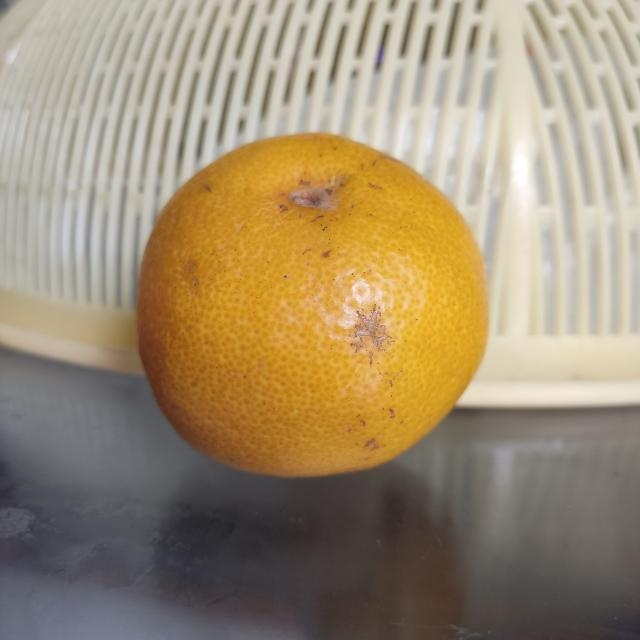agrume: (130, 130, 493, 486)
